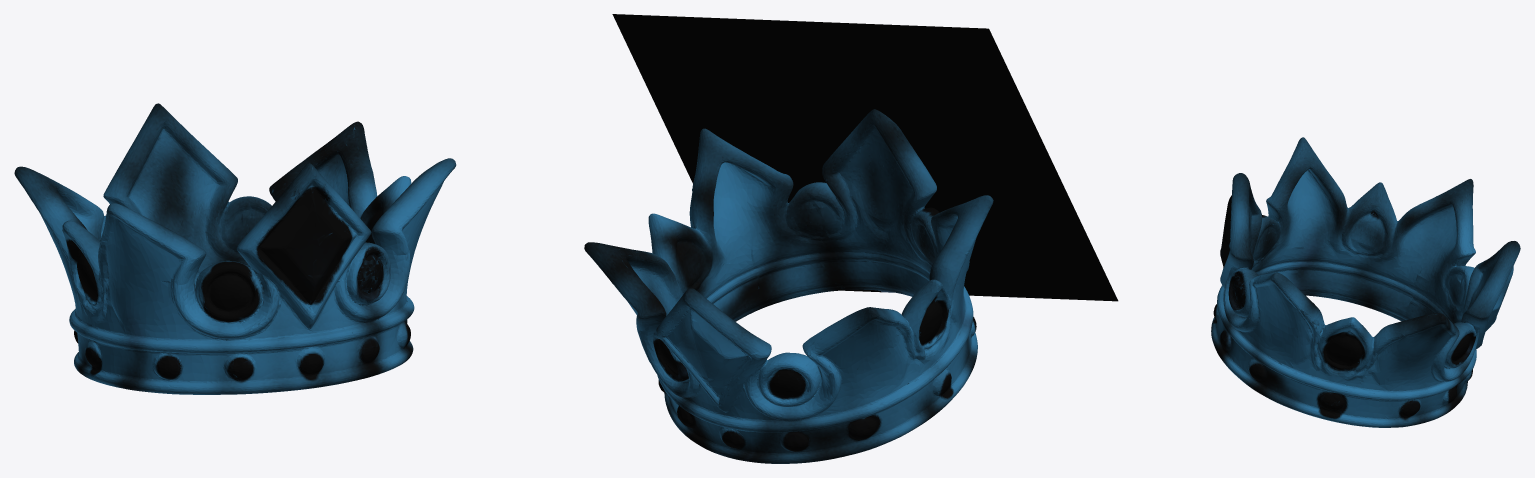
File: CORONA-DARK-optimizada.glb
3 views of the same model, side by side, from view 1: azimuth 30°, elevation 25°; view 2: azimuth 150°, elevation 25°; view 3: azimuth 270°, elevation 25° (orthographic). The views are drawn at different scales.
Parts seen in each view (by area): view 1: node_id11; view 2: node_id11, node_id7; view 3: node_id11.
Boxes of the visible parts, <box> form: node_id11: <box>14,103,456,394</box>; node_id11: <box>584,109,993,463</box>; node_id7: <box>612,14,1118,301</box>; node_id11: <box>1211,137,1520,427</box>.
Size of the model in its own units: 0.5293 by 0.4745 by 0.4994.
2 materials, 2 textured.
